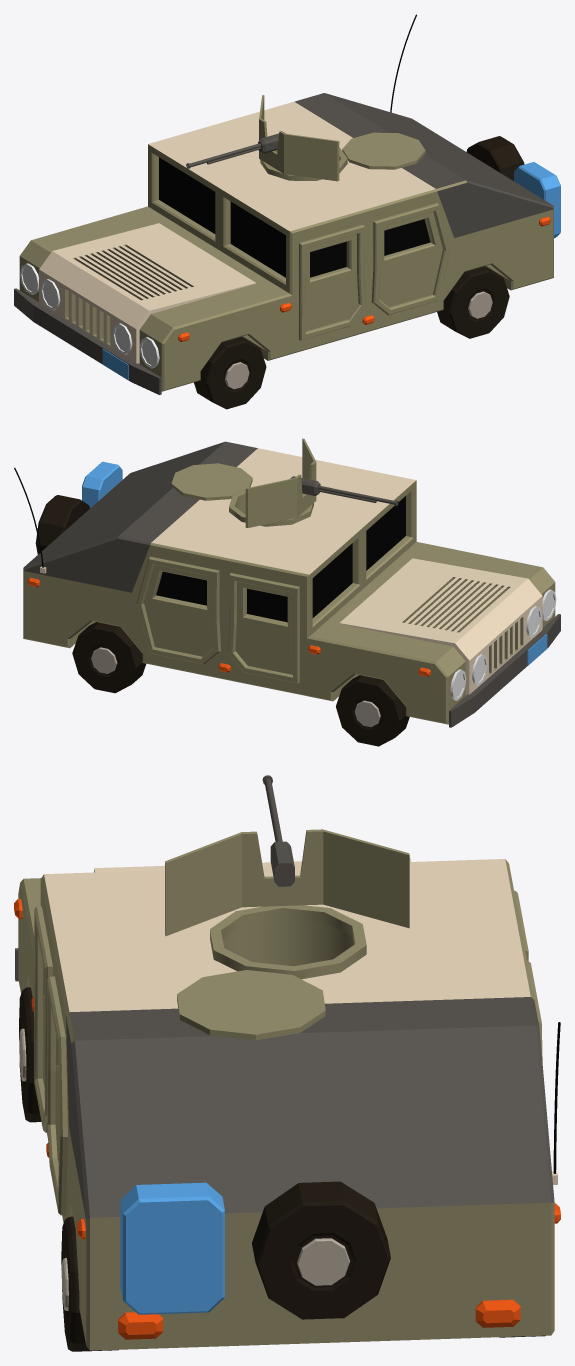
The model's file is 04 Army_Vehical.FBX.
3 renders of one model, top to bottom at view 1: azimuth 30°, elevation 25°; view 2: azimuth 150°, elevation 25°; view 3: azimuth 270°, elevation 25°, orthographic. The views are drawn at different scales.
Parts seen in each view (by area): view 1: Box256, Wheel (×3), Box259, Cylinder063, Box257, Tube005, Group131, Group132, Cylinder067; view 2: Box256, Wheel (×3), Box259, Cylinder063, Box257, Tube005, Group130, Group129, Cylinder066; view 3: Box256, Wheel (×3), Box259, Box257, Cylinder063, Tube005, Group133, Box268, Box269, Box271.
Part boxes in pixels (left/top/right/bottom): Box256: left=14, top=93, right=553, bottom=394; Wheel (×3): left=194, top=136, right=524, bottom=409; Box259: left=259, top=95, right=339, bottom=181; Cylinder063: left=342, top=132, right=425, bottom=169; Box257: left=514, top=162, right=560, bottom=238; Tube005: left=260, top=147, right=347, bottom=180; Group131: left=225, top=362, right=249, bottom=389; Group132: left=468, top=291, right=492, bottom=318; Cylinder067: left=139, top=337, right=159, bottom=368; Box256: left=23, top=441, right=560, bottom=727; Wheel (×3): left=35, top=495, right=409, bottom=746; Box259: left=245, top=438, right=316, bottom=527; Cylinder063: left=171, top=463, right=252, bottom=500; Box257: left=82, top=461, right=122, bottom=508; Tube005: left=229, top=490, right=313, bottom=526; Group130: left=91, top=647, right=117, bottom=673; Group129: left=354, top=700, right=380, bottom=727; Cylinder066: left=450, top=669, right=466, bottom=700; Box256: left=15, top=857, right=554, bottom=1350; Wheel (×3): left=19, top=987, right=390, bottom=1351; Box259: left=165, top=829, right=409, bottom=936; Box257: left=120, top=1182, right=224, bottom=1314; Cylinder063: left=177, top=970, right=325, bottom=1040; Tube005: left=210, top=905, right=366, bottom=979; Group133: left=297, top=1238, right=349, bottom=1285; Box268: left=475, top=1299, right=520, bottom=1327; Box269: left=118, top=1312, right=163, bottom=1339; Box271: left=270, top=841, right=294, bottom=886.
Size of the model in its own units: 1238 by 542 by 700.
